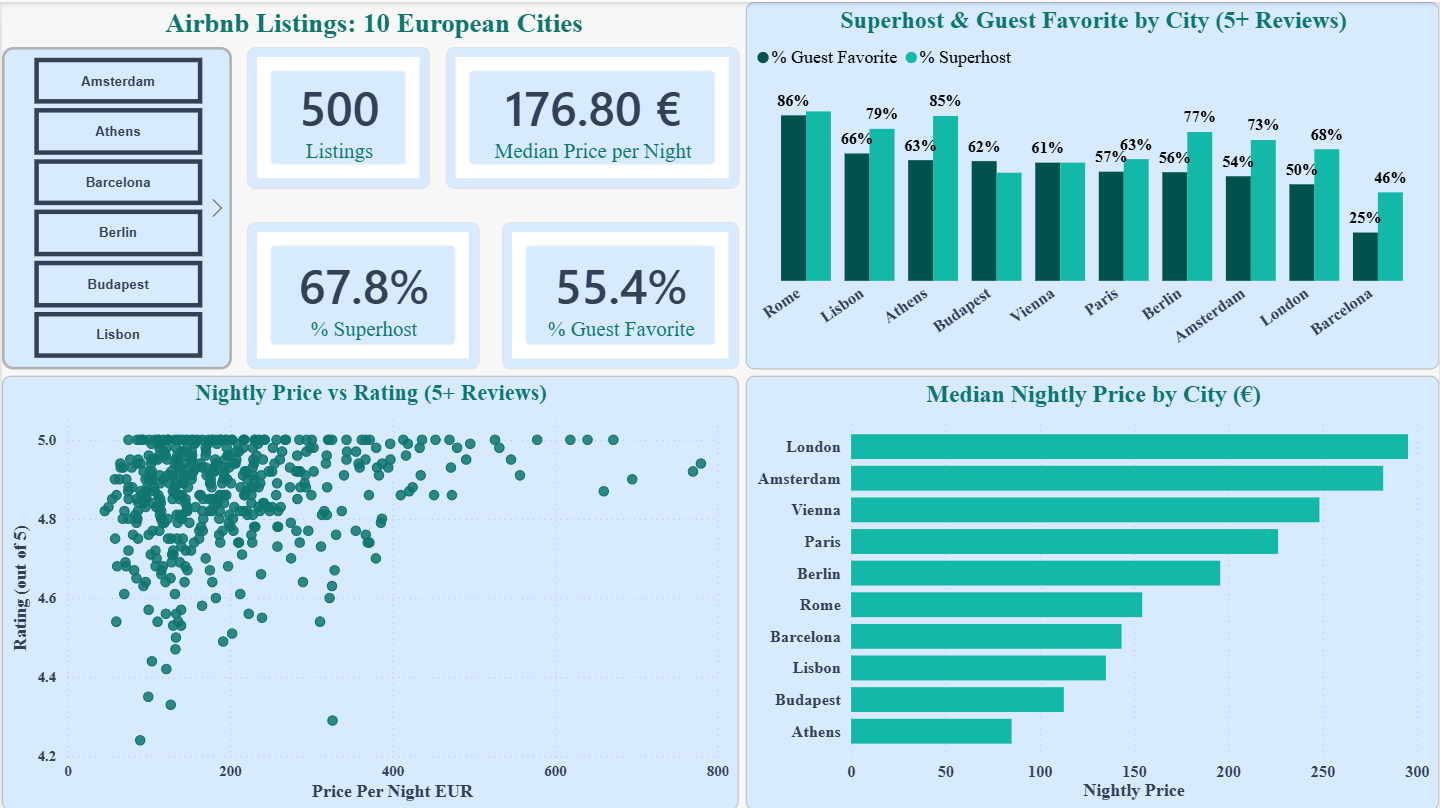

The page's visual inventory and layout, read from the dashboard file:
{"tool":"powerbi","page":{"name":"City Overview","canvas":[1280,720],"ordinal":0},"visuals":[{"type":"textbox","box":[0,0,662.5,45],"z":0},{"type":"cardVisual","fields":{"Data":["fact_listing.Listings"]},"box":[217.9,40.1,163.4,126.2],"z":1000},{"type":"cardVisual","fields":{"Data":["fact_listing.Median Price per Night"]},"box":[394.7,40,261.6,126.3],"z":2000},{"type":"cardVisual","fields":{"Data":["fact_listing.% Superhost"]},"box":[217.9,196.3,207.4,131.1],"z":3000},{"type":"cardVisual","fields":{"Data":["fact_listing.% Guest Favorite"]},"box":[445.3,196.3,211.1,131.1],"z":4000},{"type":"clusteredBarChart","title":"Median Nightly Price by City (€)","fields":{"Category":["dim_city.city_name"],"Y":["fact_listing.Median Price per Night"]},"box":[662.4,332.6,617.9,387.1],"z":5000},{"type":"clusteredColumnChart","title":"Superhost & Guest Favorite by City (5+ Reviews)","fields":{"Category":["dim_city.city_name"],"Y":["fact_listing.% Guest Favorite","fact_listing.% Superhost"]},"box":[662.5,0,617.9,327.5],"z":6000},{"type":"scatterChart","title":"Nightly Price vs Rating (5+ Reviews)","fields":{"X":["fact_listing.price_per_night_eur"],"Y":["fact_listing.rating"]},"box":[0,332.5,656.2,387.5],"z":7000},{"type":"slicer","fields":{"Values":["dim_city.city_name"]},"box":[0,40,205,287.5],"z":8000}]}

Visuals, with their boxes in screenshot pixels (x1, y1, x2, y2), scaled from the page's 1280x720 canvas onto the 1440x808 screenshot:
textbox: (x1=0, y1=0, x2=745, y2=50)
cardVisual - fact_listing.Listings: (x1=245, y1=45, x2=429, y2=187)
cardVisual - fact_listing.Median Price per Night: (x1=444, y1=45, x2=738, y2=187)
cardVisual - fact_listing.% Superhost: (x1=245, y1=220, x2=478, y2=367)
cardVisual - fact_listing.% Guest Favorite: (x1=501, y1=220, x2=738, y2=367)
"Median Nightly Price by City (€)" clusteredBarChart: (x1=745, y1=373, x2=1439, y2=807)
"Superhost & Guest Favorite by City (5+ Reviews)" clusteredColumnChart: (x1=745, y1=0, x2=1439, y2=368)
"Nightly Price vs Rating (5+ Reviews)" scatterChart: (x1=0, y1=373, x2=738, y2=807)
slicer - dim_city.city_name: (x1=0, y1=45, x2=231, y2=368)
